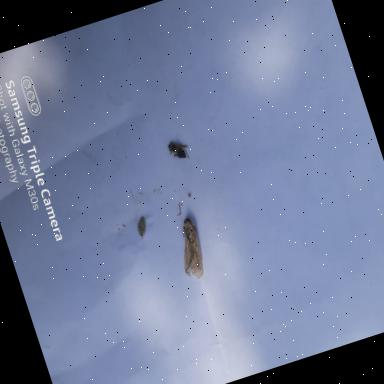pbw: (168, 214, 212, 282)
